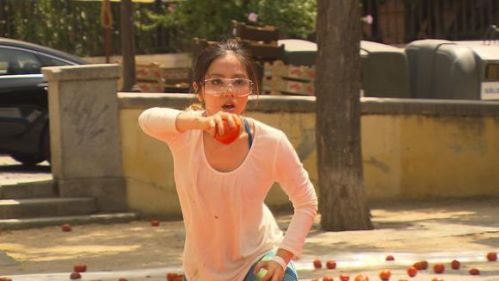face: (199, 59, 255, 117)
